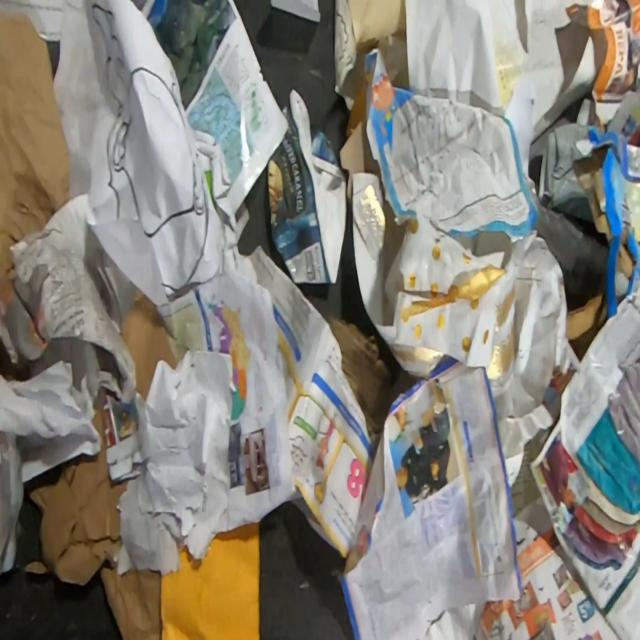cardboard: (23, 403, 163, 640), (563, 127, 640, 367), (268, 87, 346, 285), (326, 314, 422, 438), (121, 281, 178, 403), (338, 116, 380, 206)
rigid_plastic: (524, 174, 608, 276)
